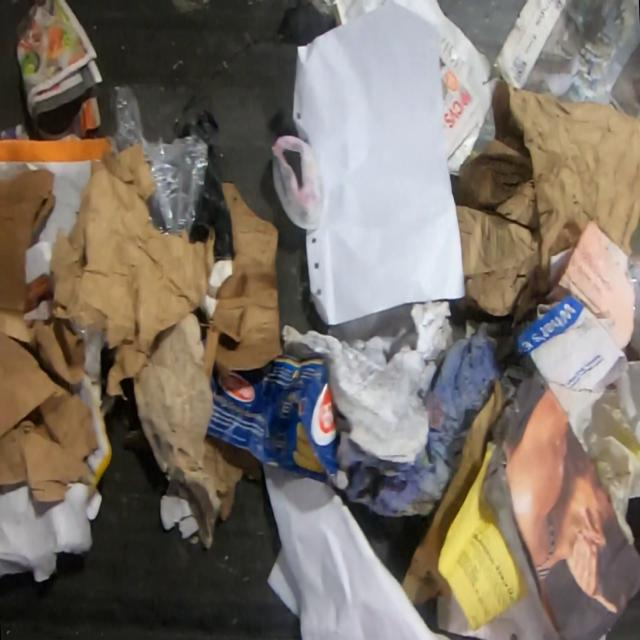cardboard: (399, 376, 505, 608), (0, 310, 99, 504), (207, 352, 340, 485), (206, 182, 280, 372), (0, 169, 57, 311)
rigid_plastic: (626, 253, 640, 361)
soft_plastic: (112, 86, 208, 234), (176, 108, 234, 260), (272, 134, 326, 231)
